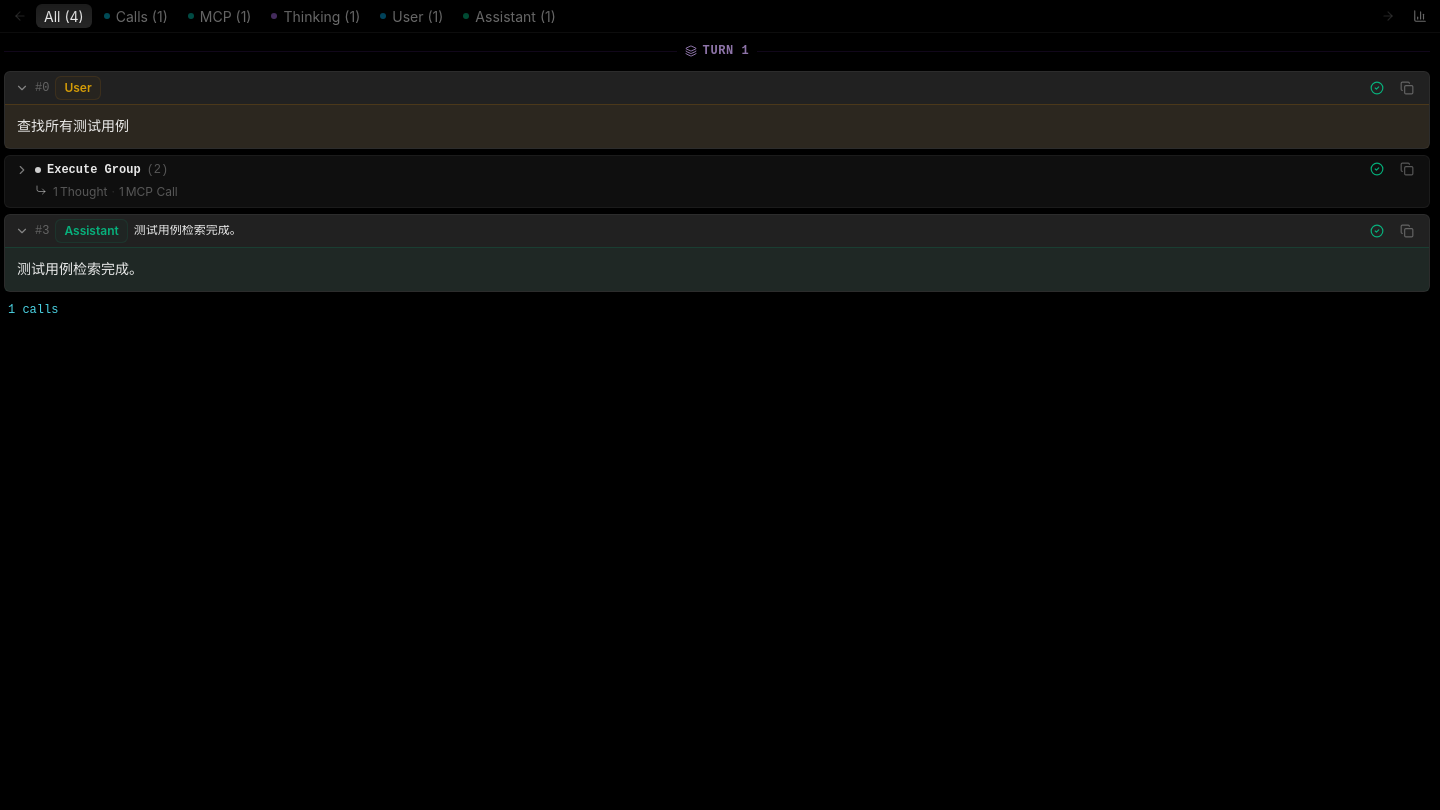
Test: AgentExecutionFlowList › 渲染执行步骤并支持点击展开详情
The width and height of the screenshot is (1440, 810).
Expected: the button "All (4)" is shown, [36,4,92,28]
Expected: the text "Execute Group" is shown, [47,162,141,178]
Click the button with class "agent-execution-flow-group-header": (94, 170) [5,156,1429,207]
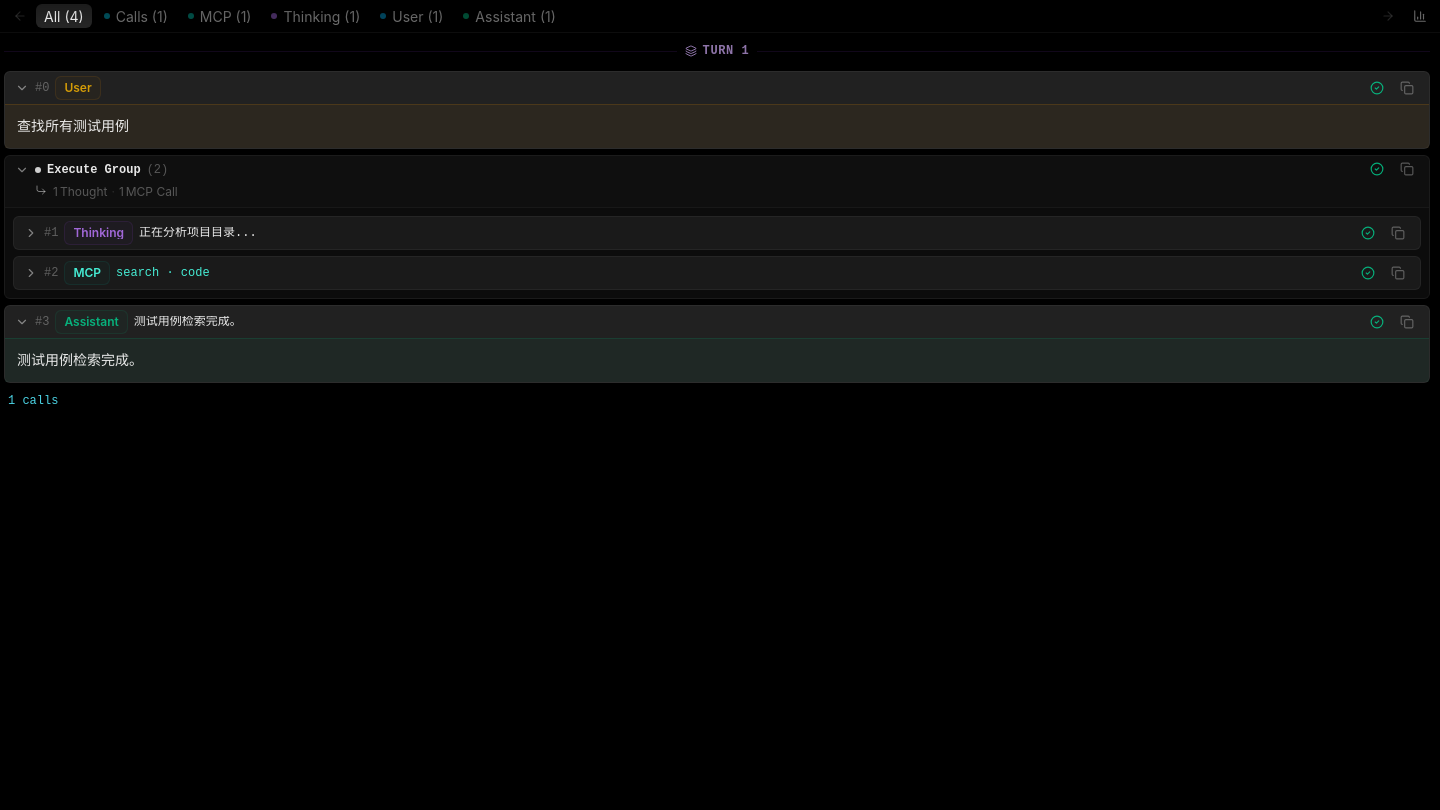
Now the button with class "agent-execution-flow-step-header" showing "#2 MCP search · code" is shown
Click the button with class "agent-execution-flow-step-header" showing "#2 MCP search · code": (87, 273) [14,257,1420,289]
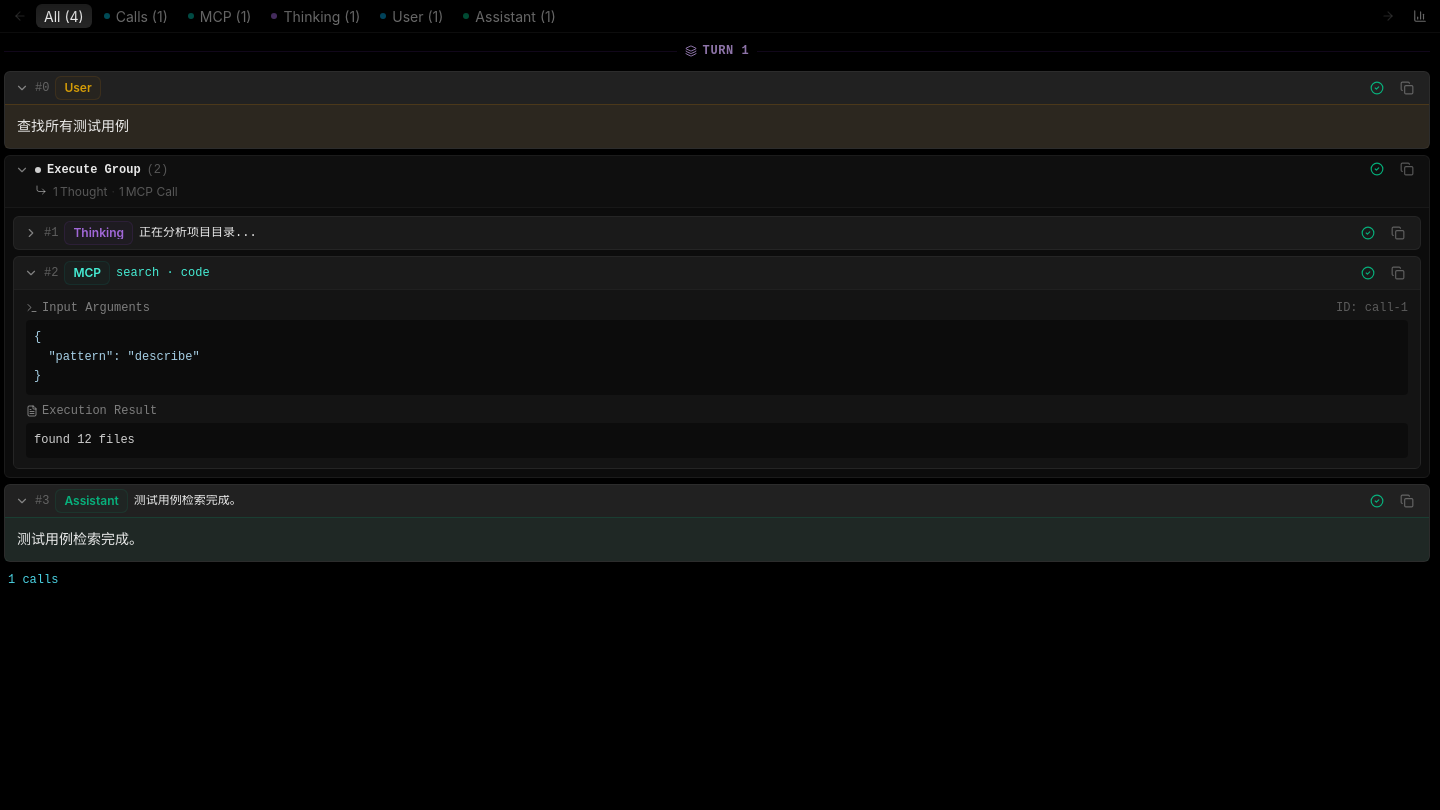
Now the text "Input Arguments" is shown, box [26,300,150,316]
Now the text "Execution Result" is shown, box [26,403,157,419]
Now the text "found 12 files" is shown, box [34,431,135,450]
